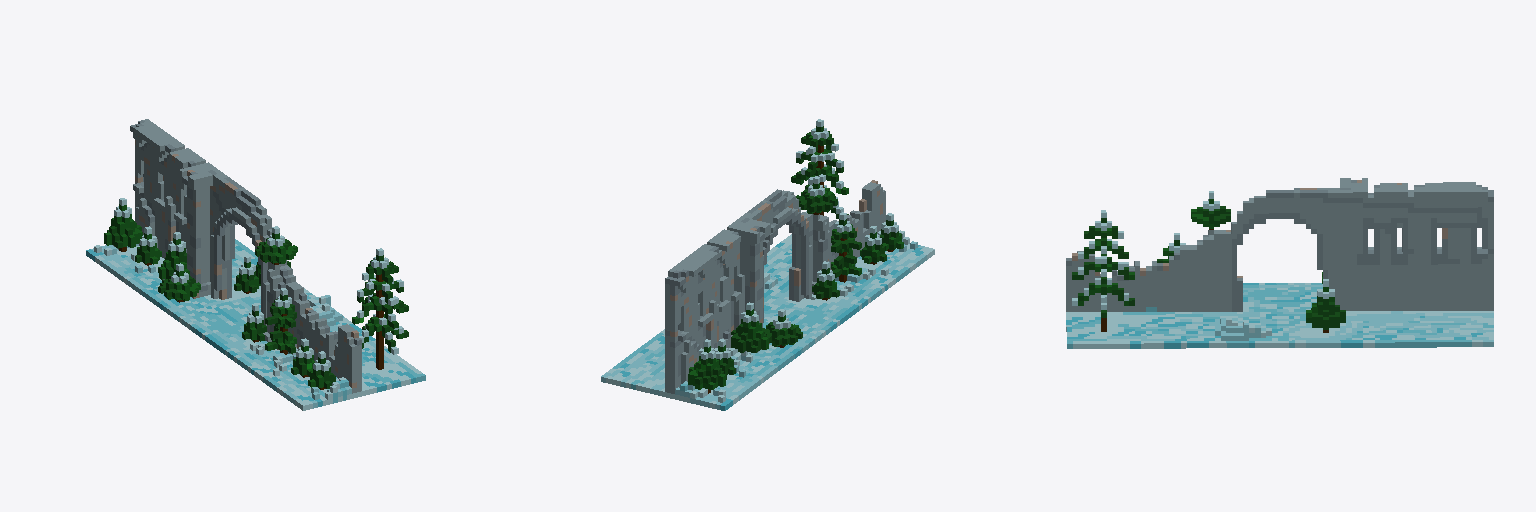
The picture shows the model from 3 angles: view 1: azimuth 30°, elevation 25°; view 2: azimuth 150°, elevation 25°; view 3: azimuth 270°, elevation 25°; orthographic projection.
Parts seen in each view (by area): view 1: Arka_12:Mesh; view 2: Arka_12:Mesh; view 3: Arka_12:Mesh.
Boxes of the visible parts, box(x1,y1,x2,y2) form: Arka_12:Mesh: box(86, 119, 425, 410); Arka_12:Mesh: box(601, 119, 934, 410); Arka_12:Mesh: box(1066, 178, 1493, 348).
Size of the model in its own units: 4.11 by 3.84 by 12.04.
Materials: 1 (1 with a texture image).